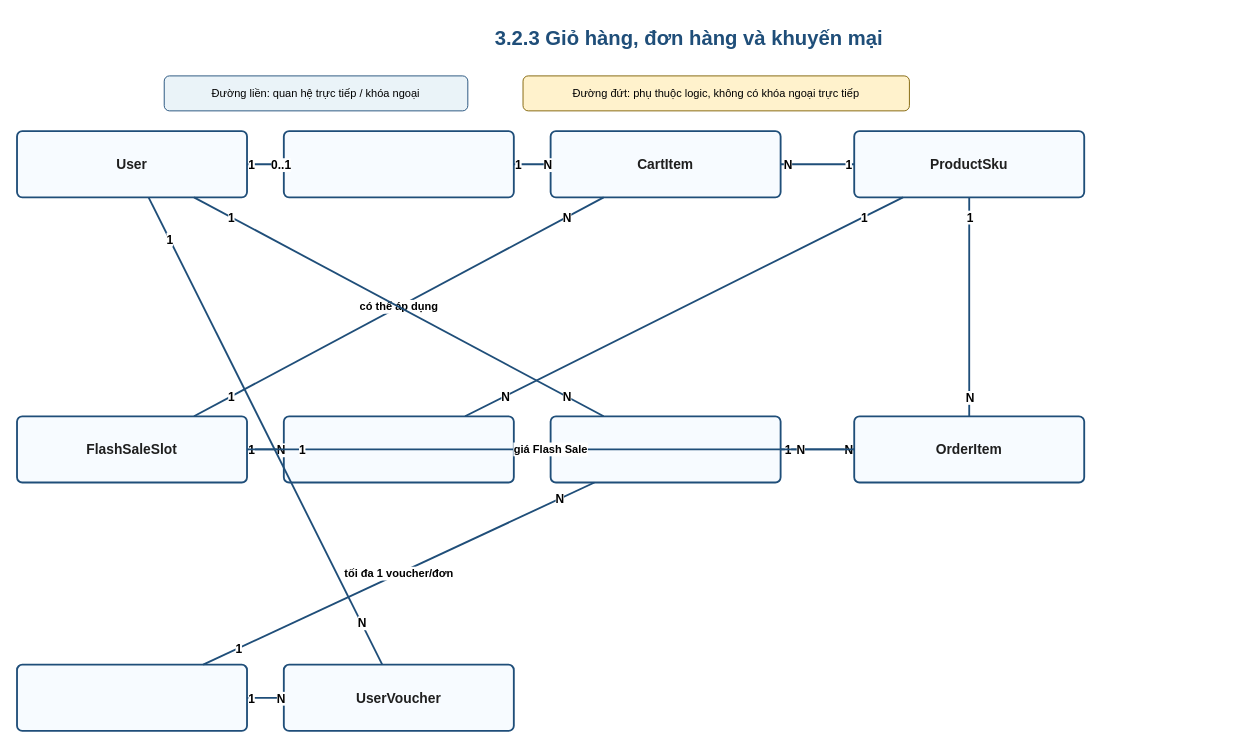
This 1256x747 diagram has some shape labels left out. The box of each missing label's shape, as (x1, y1, x2, y2) in pixels:
Cart: (282, 130, 514, 198)
FlashSaleItem: (282, 415, 514, 483)
Order: (549, 415, 781, 483)
Voucher: (16, 663, 247, 731)
